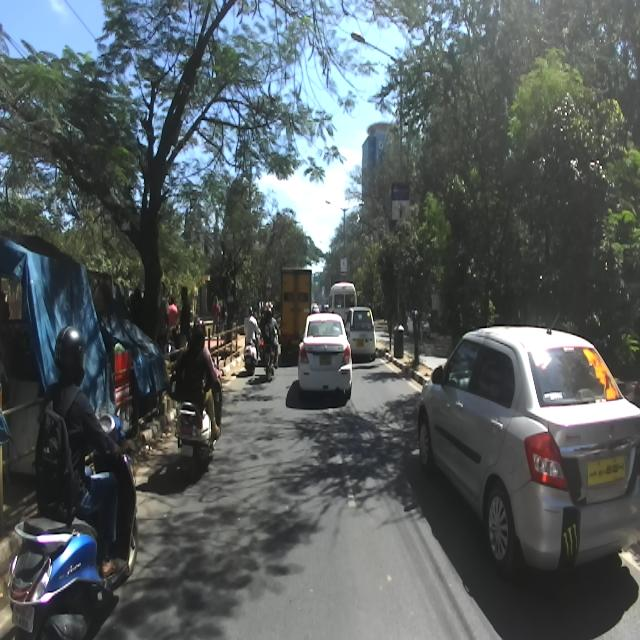car ahead at: (414, 320, 640, 572), (296, 300, 357, 410)
motorcycle ahead at: (13, 485, 144, 640), (172, 397, 228, 475)
